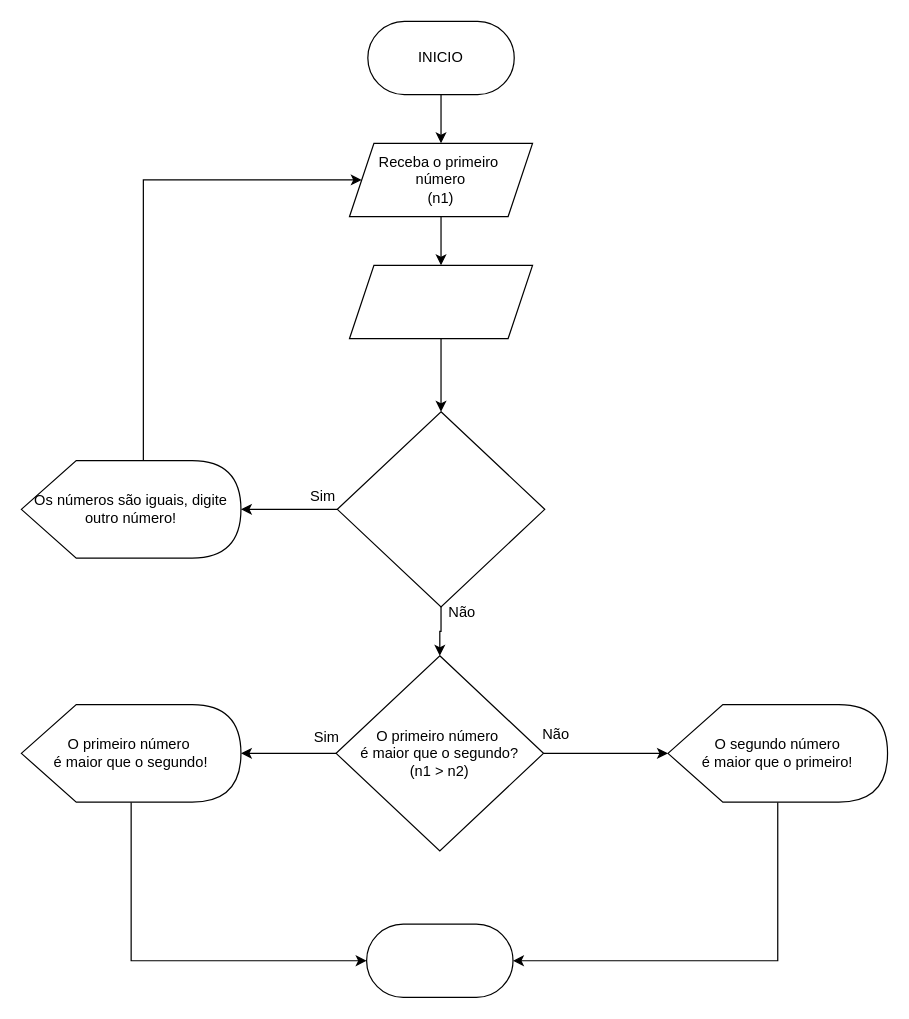
Image size: 909x1019. Some labels were removed from this diagram. Each missing label, with the centre of its shape:
"FINAL" goes at point (439, 960).
"Os número são iguais? (n1 == n2)" goes at point (440, 509).
"Receba o segundo número (n2)" goes at point (440, 301).
